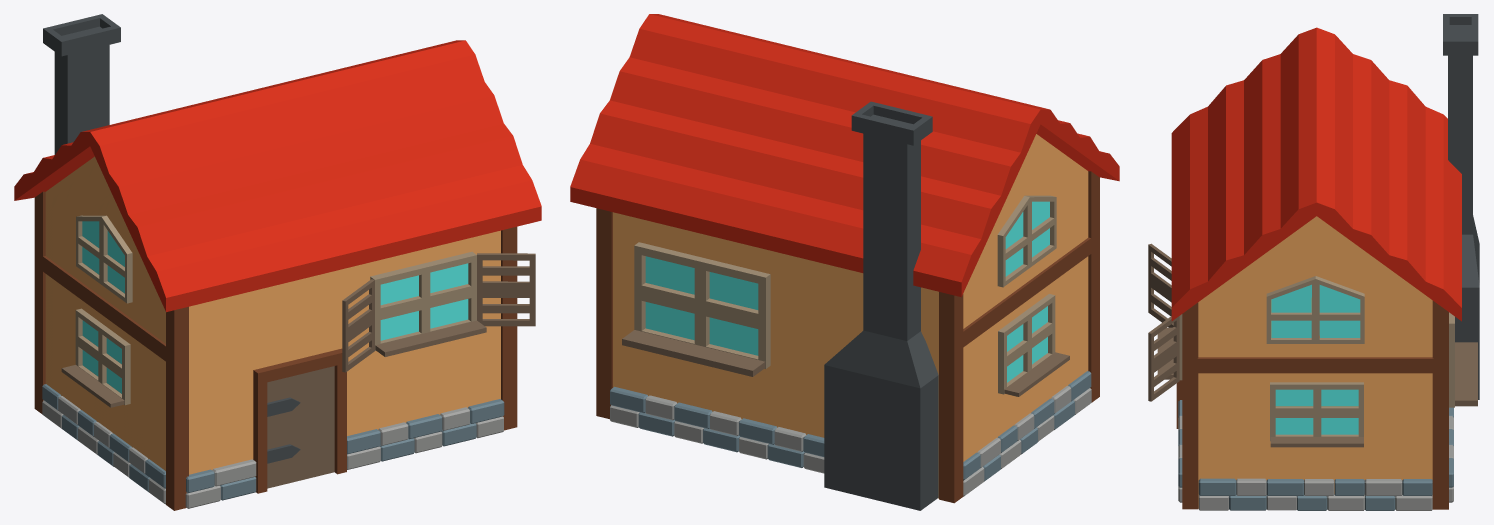
The model's file is House_7.glb.
3 views of the same model, side by side, from view 1: azimuth 30°, elevation 25°; view 2: azimuth 150°, elevation 25°; view 3: azimuth 270°, elevation 25° (orthographic). The views are drawn at different scales.
Parts seen in each view (by area): view 1: House 7; view 2: House 7; view 3: House 7.
Boxes of the visible parts, x1,y1,x2,y2 form: House 7: [14, 14, 541, 510]; House 7: [570, 14, 1119, 510]; House 7: [1148, 14, 1479, 510].
Size of the model in its own units: 5.4 by 4.95 by 4.29.
